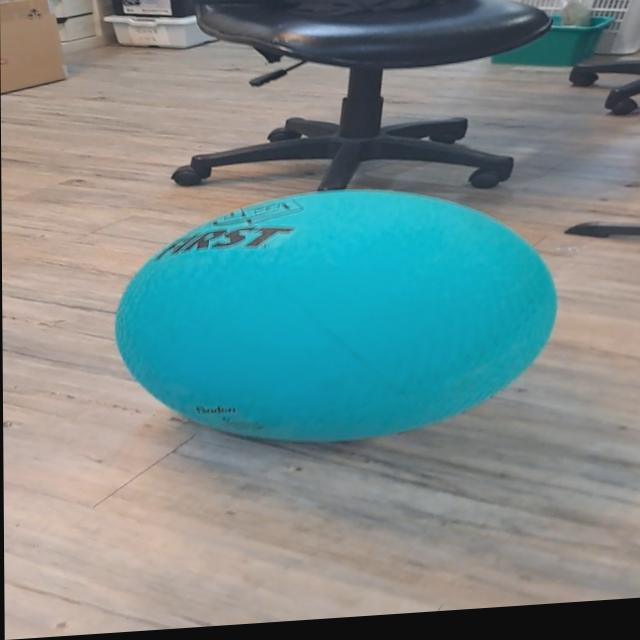ALGAE: (111, 172, 560, 458)
